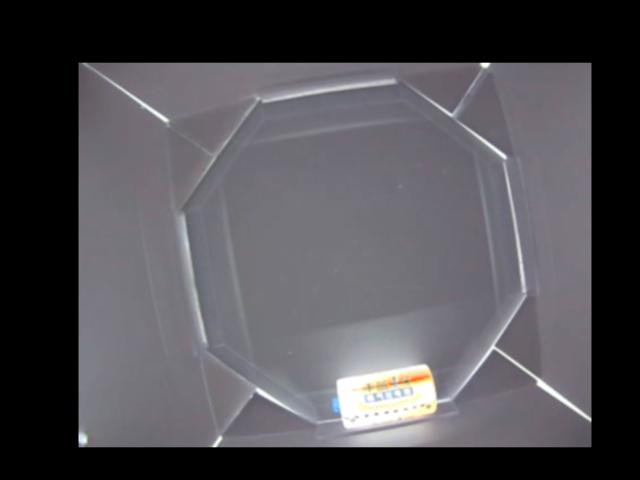Battery: (333, 362, 437, 428)
